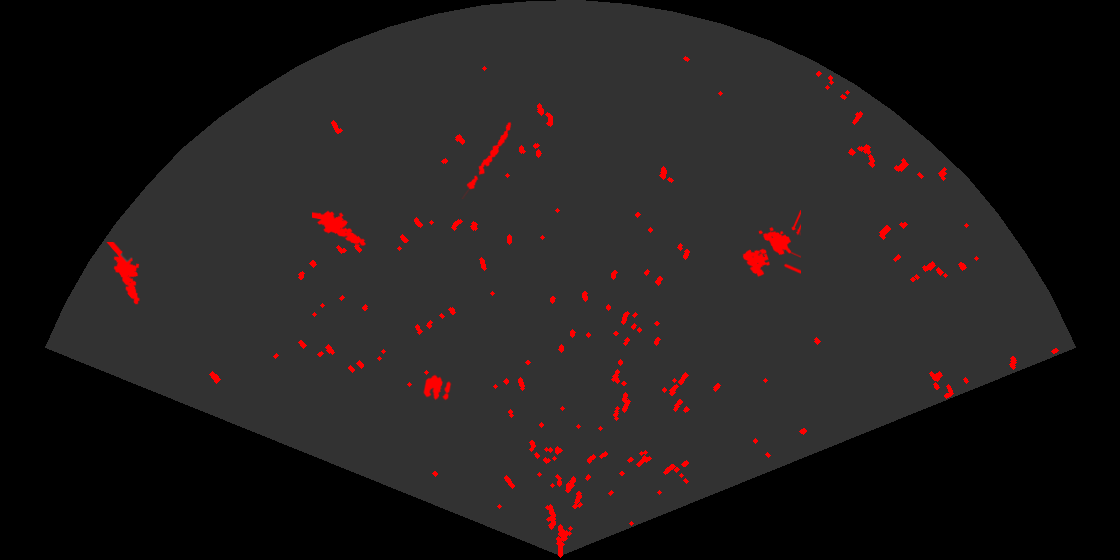ball: (422, 373, 453, 402)
cage: (741, 210, 801, 279)
chain: (460, 120, 513, 199)
frogman: (105, 242, 142, 306), (312, 209, 368, 247)
